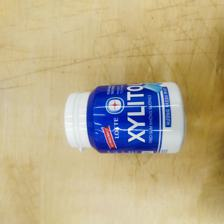Xylitol_blue: (62, 80, 189, 156)
